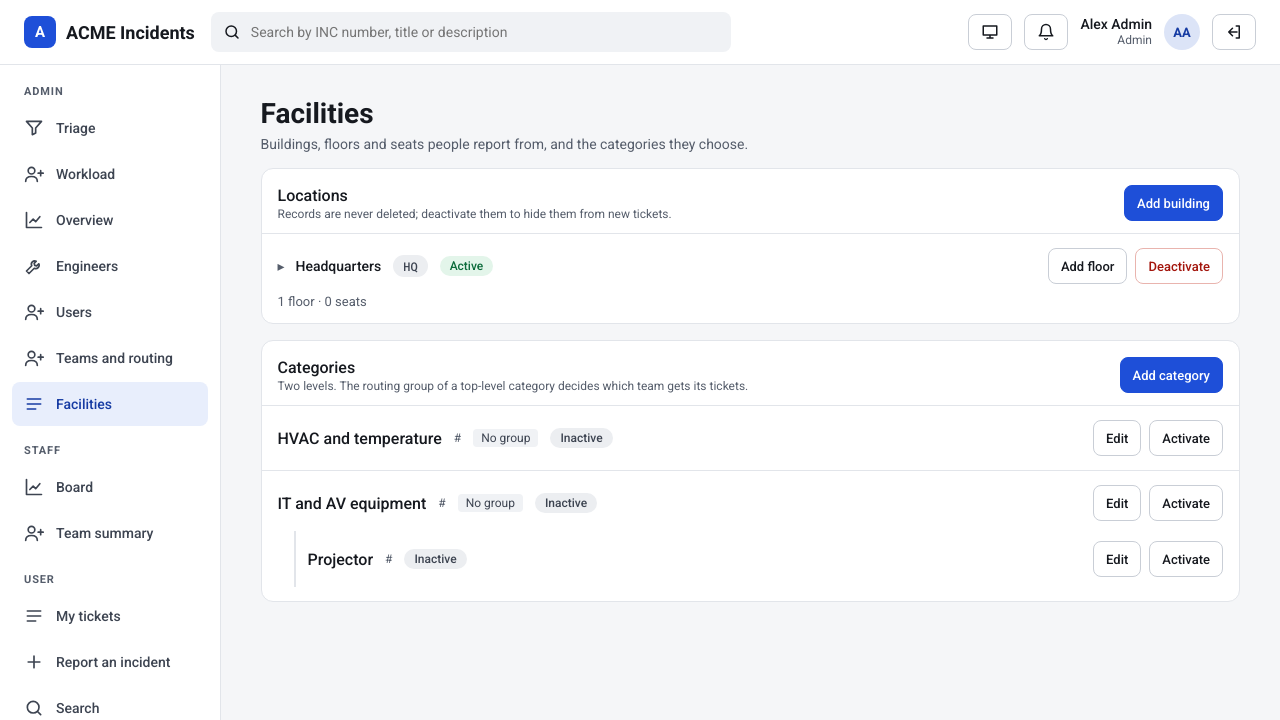
Test: facility errors › explains a generic unique-constraint conflict, e.g. a floor name
This screenshot has width=1280, height=720.
Expected: the heading "Facilities" is shown, [260,97,374,130]
Click the button "Add floor": {"x": 1088, "y": 266} [1048,248,1128,284]
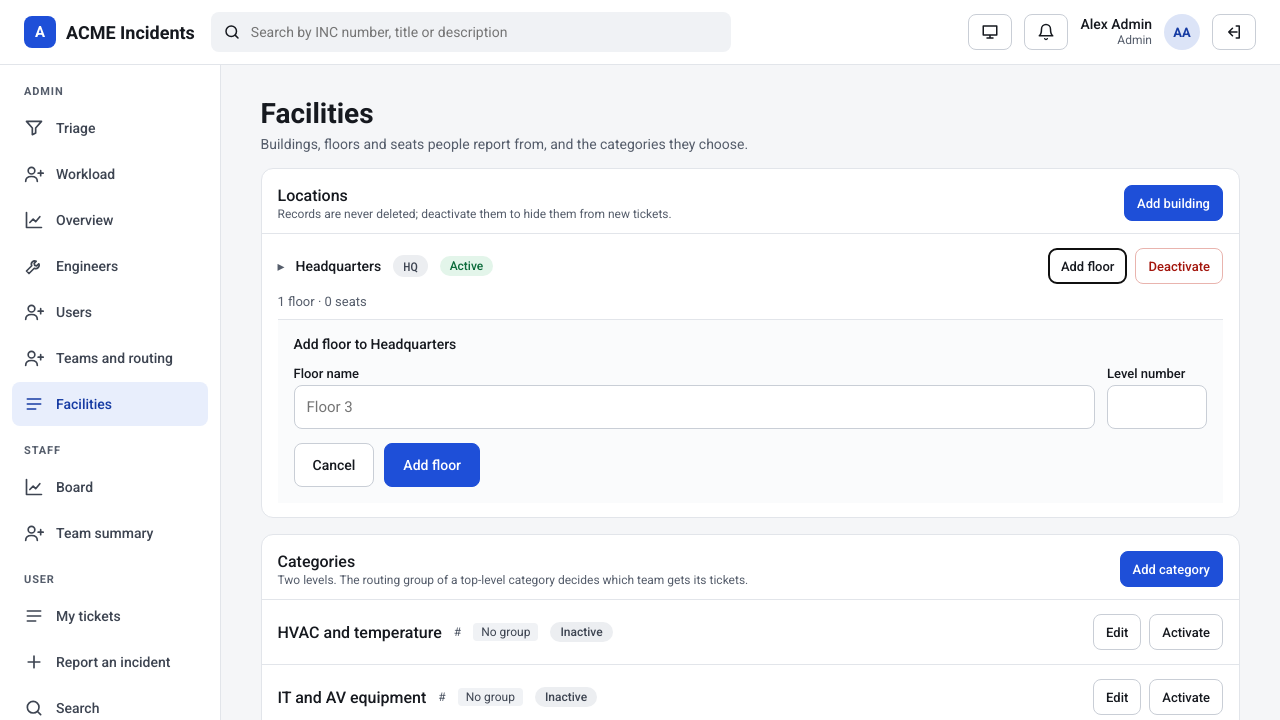
In the field labelled "Floor name": {"x": 694, "y": 407} [294,385,1095,429], type "Floor 1"
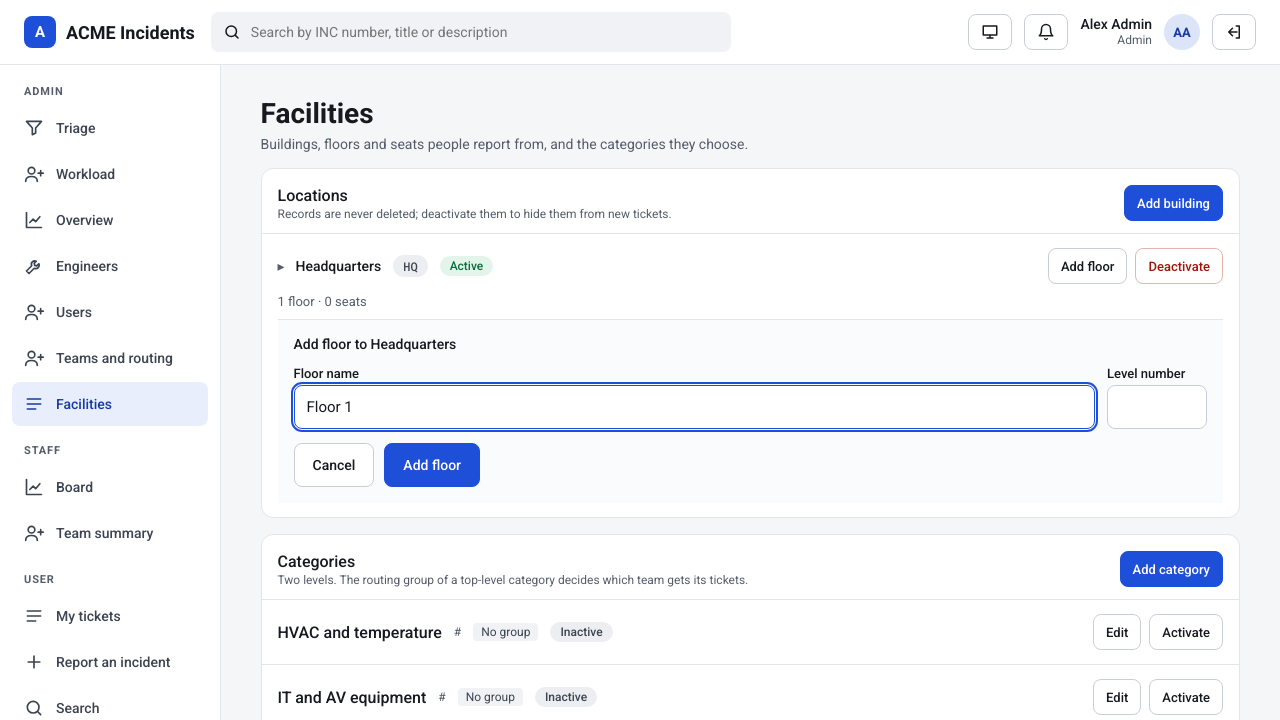
In the number field labelled "Level number": {"x": 1157, "y": 407} [1107,385,1207,429], type "1"
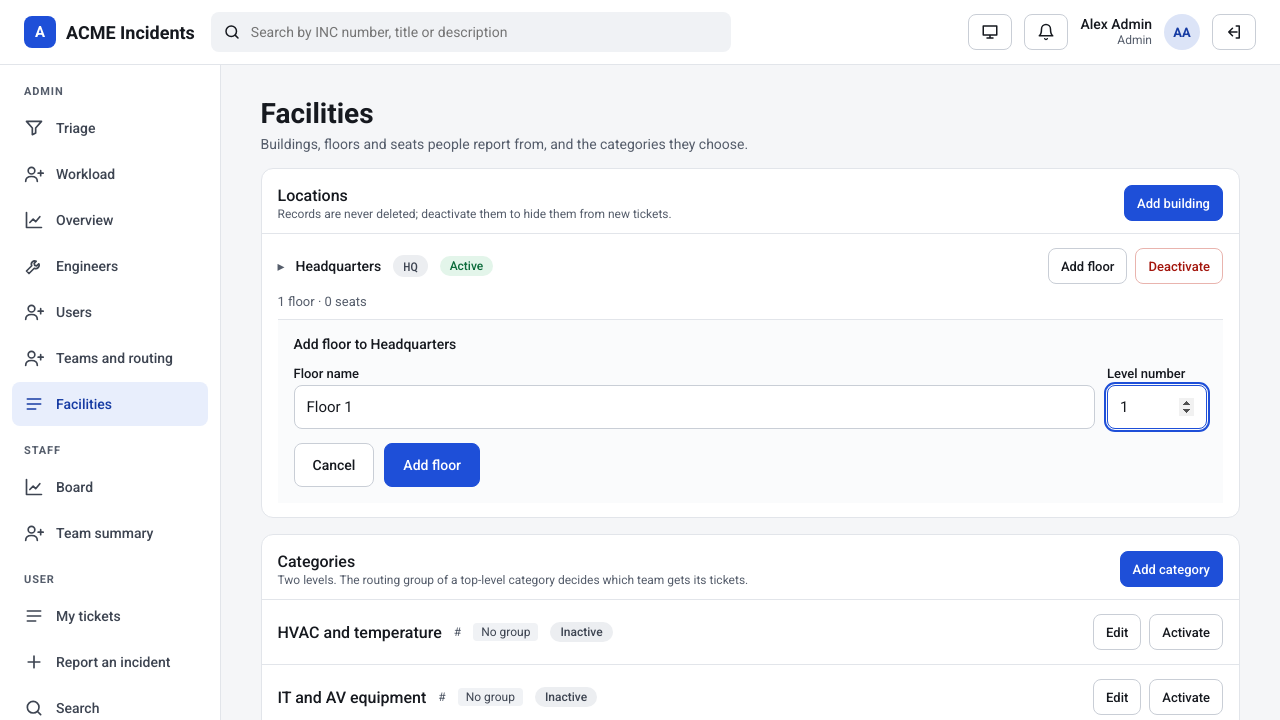
Click the button "Add floor" below "Floor name": {"x": 432, "y": 465} [384,443,480,487]
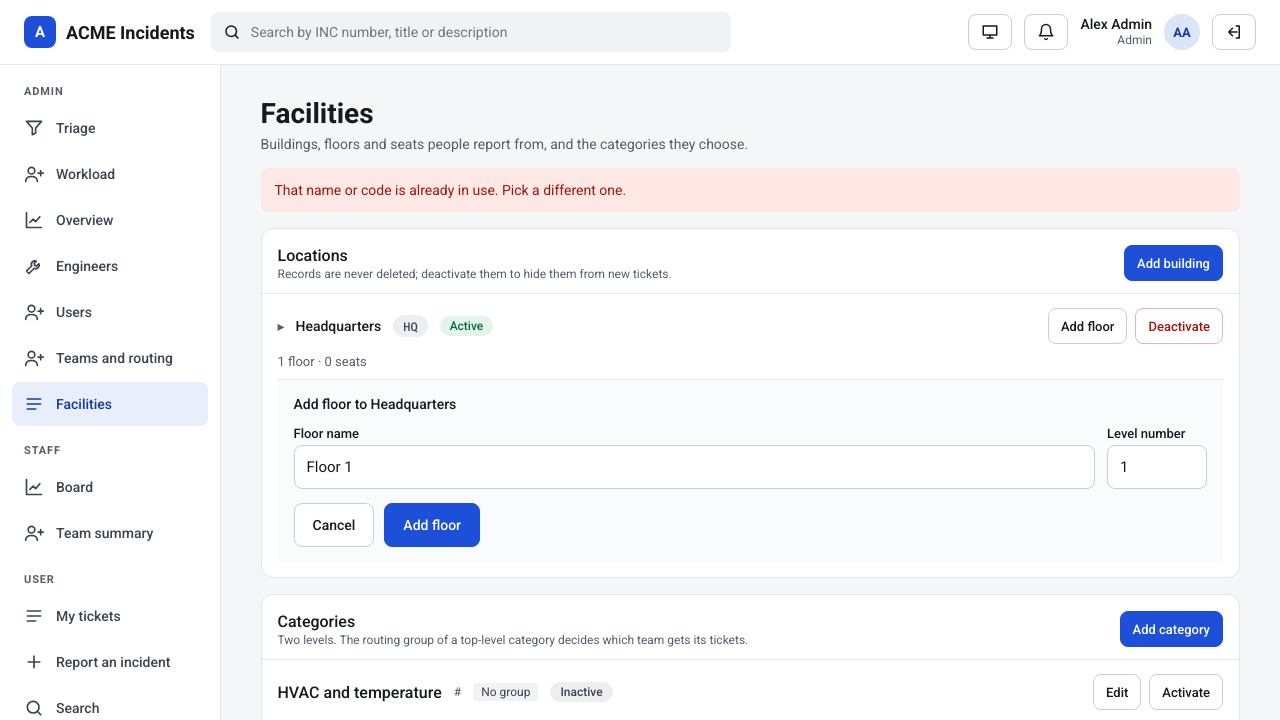
Expected: the message shows "That name or code is already in use.", [274,182,626,198]
